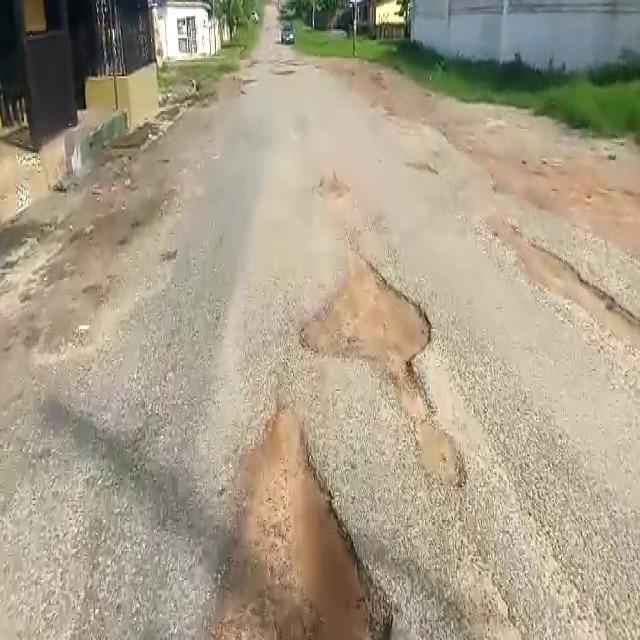Pothole: (216, 404, 390, 640), (295, 256, 438, 372)
